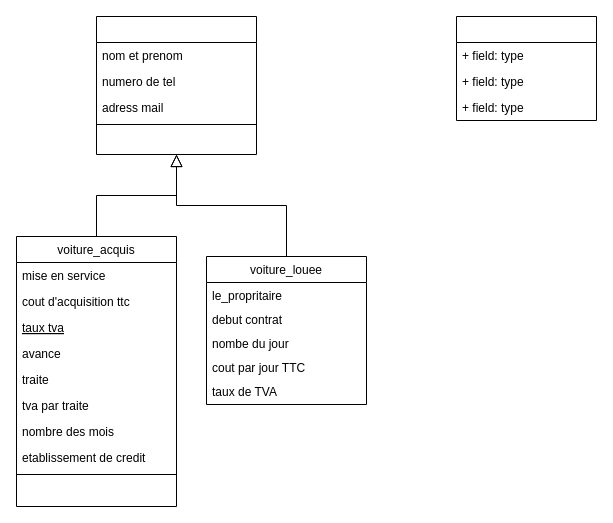
The diagram is 613 pixels wide and 523 high, and some of its shapes have lost their labels. Here are the shapes that lost their labels. From the top down, the box of each, then its label:
(96, 16, 256, 154): contact
(456, 16, 596, 120): Classname
